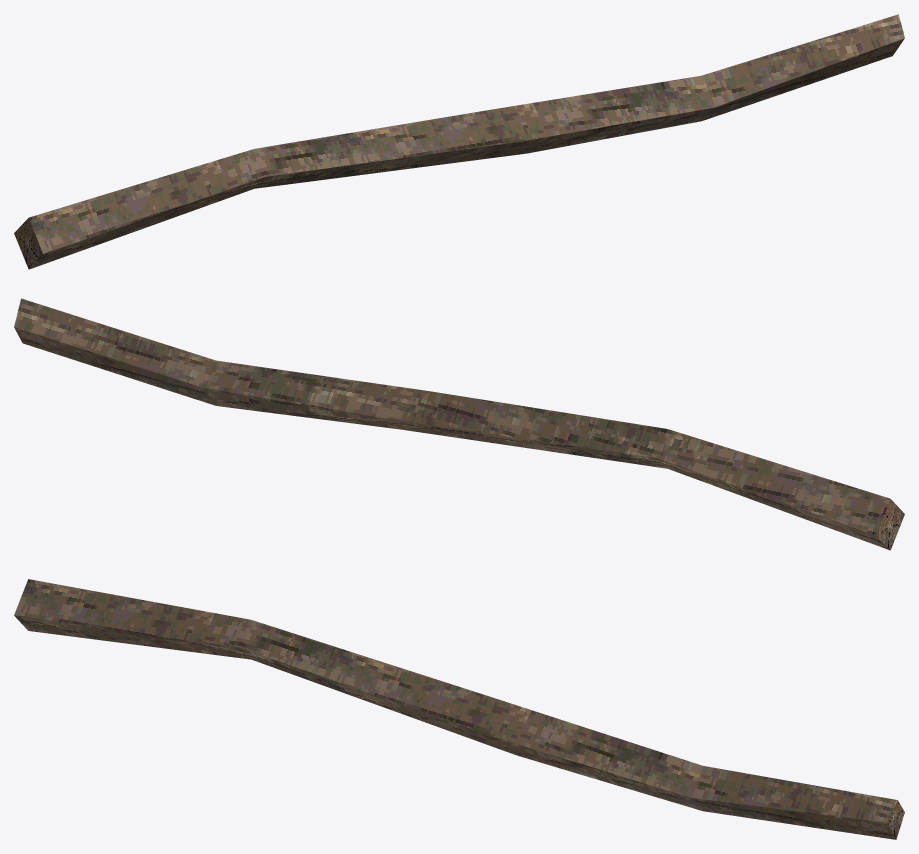
The model's file is wooden_fence_beam_alt.glb.
3 views of the same model, one above another, from view 1: azimuth 30°, elevation 25°; view 2: azimuth 150°, elevation 25°; view 3: azimuth 330°, elevation 25° (orthographic).
Visible parts, largest first — view 1: wooden_fence_beam_alt; view 2: wooden_fence_beam_alt; view 3: wooden_fence_beam_alt.
Part boxes in pixels (x1,y1,x2,y2): wooden_fence_beam_alt: [14, 14, 904, 269]; wooden_fence_beam_alt: [14, 298, 904, 550]; wooden_fence_beam_alt: [14, 579, 904, 839].
Size of the model in its own units: 2.02 by 0.1873 by 0.1196.
Materials: 1 (1 with a texture image).
